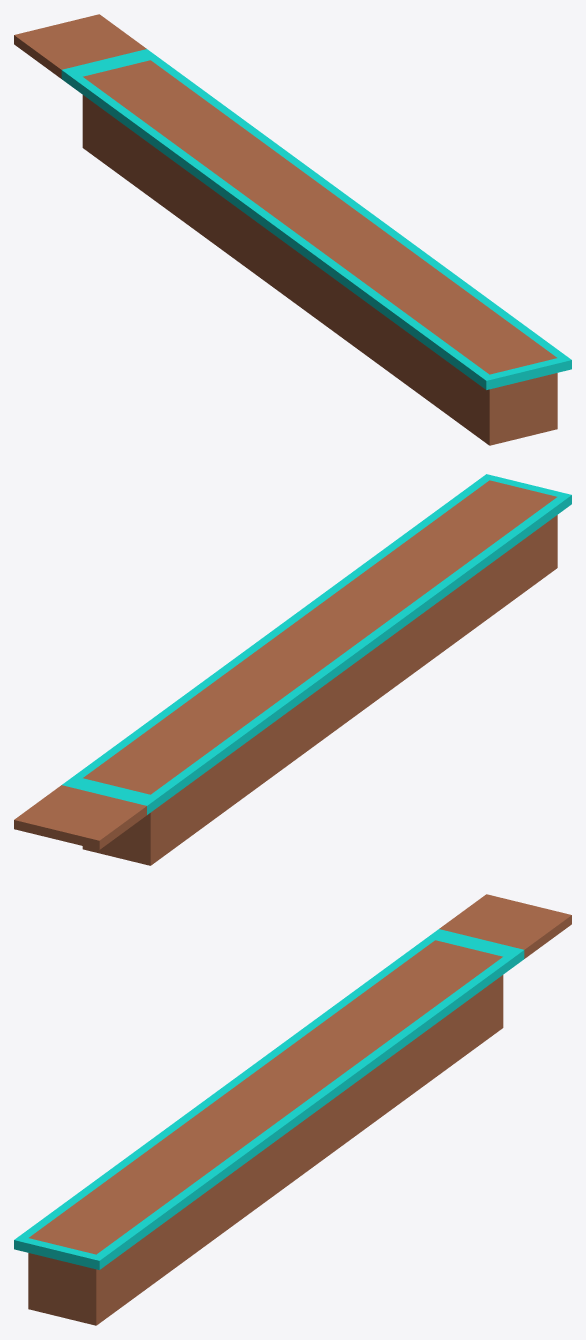
The model's file is drug store counter.fbx.
3 renders of one model, top to bottom at view 1: azimuth 30°, elevation 25°; view 2: azimuth 150°, elevation 25°; view 3: azimuth 330°, elevation 25°, orthographic.
Visible parts, largest first — view 1: drugstore counter; view 2: drugstore counter; view 3: drugstore counter.
Part boxes in pixels (bbox=[...]): drugstore counter: bbox=[14, 14, 571, 445]; drugstore counter: bbox=[14, 474, 571, 865]; drugstore counter: bbox=[14, 894, 571, 1325].
Bounding box in the file's own units: 2.51 × 2 × 24.07.
